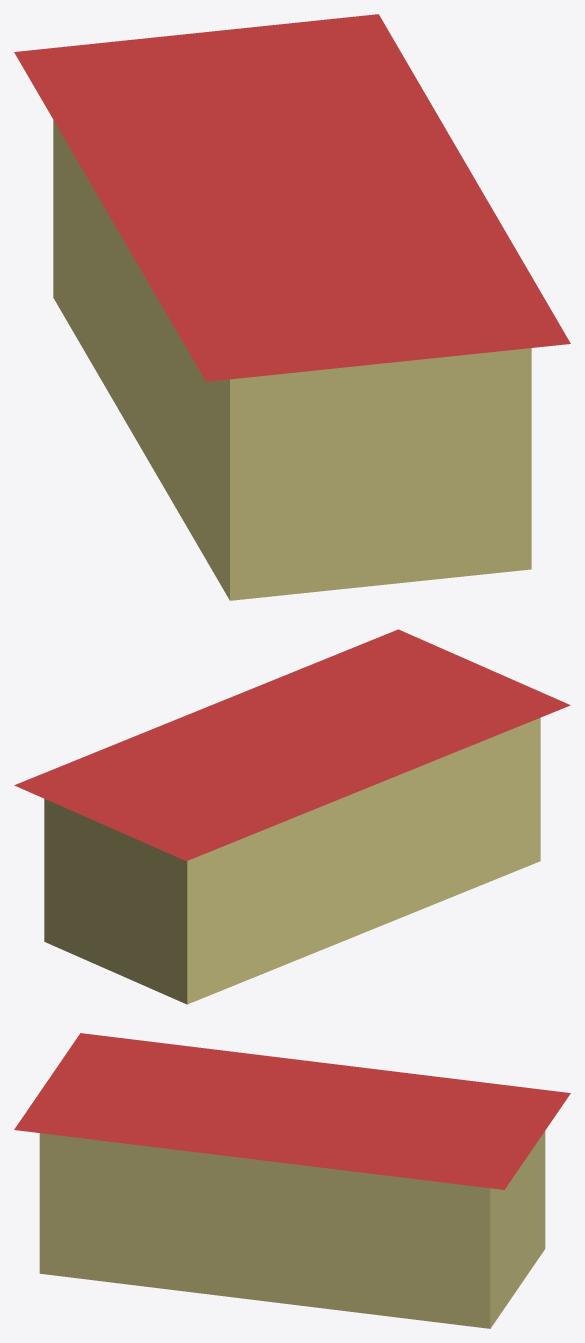
3 renders of one model, top to bottom at view 1: azimuth 30°, elevation 25°; view 2: azimuth 150°, elevation 25°; view 3: azimuth 270°, elevation 25°, orthographic. The views are drawn at different scales.
Visible parts, largest first — view 1: group_3, group_5, group_4; view 2: group_5, group_3, group_4; view 3: group_5, group_3, group_4.
Part boxes in pixels (left/top/right/bottom): group_3: left=14, top=14, right=570, bottom=381; group_5: left=53, top=120, right=531, bottom=600; group_4: left=15, top=14, right=570, bottom=381; group_5: left=44, top=717, right=540, bottom=1004; group_3: left=14, top=629, right=570, bottom=860; group_4: left=15, top=629, right=569, bottom=860; group_5: left=39, top=1131, right=545, bottom=1328; group_3: left=14, top=1033, right=570, bottom=1189; group_4: left=15, top=1033, right=570, bottom=1189.
Size of the model in its own units: 13.48 by 20.21 by 5.99.
